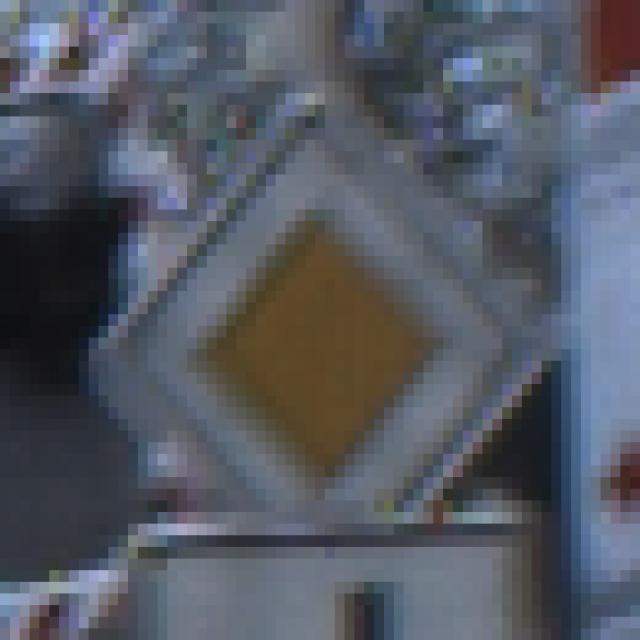Main Road: (60, 71, 592, 583)
